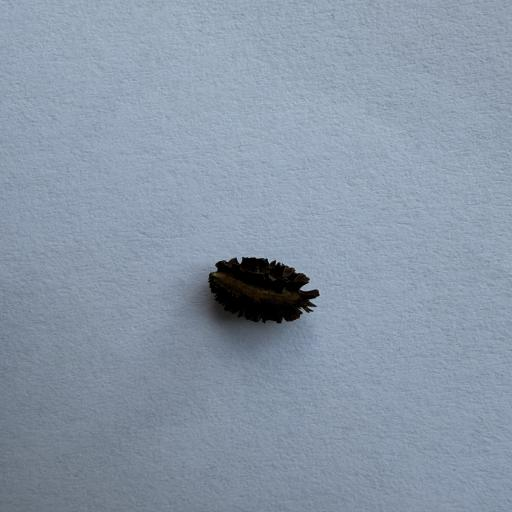papaya_seed: (190, 240, 346, 349)
